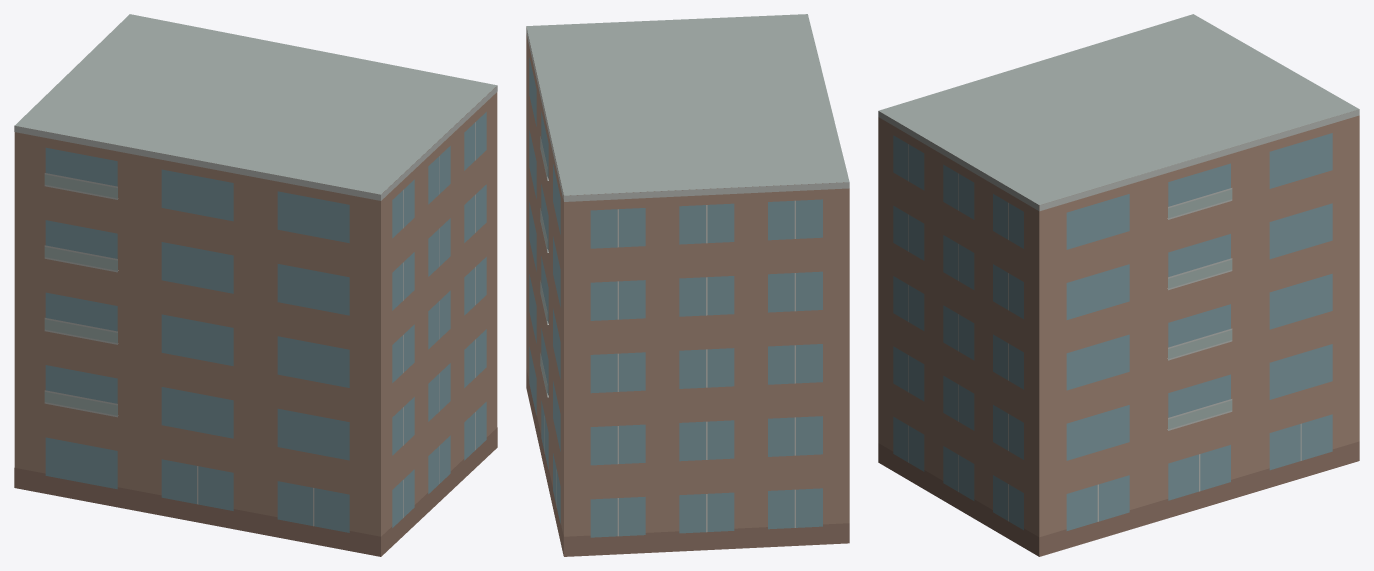
File: survey-upis-32777681.glb
3 renders of one model, left to right at view 1: azimuth 30°, elevation 25°; view 2: azimuth 150°, elevation 25°; view 3: azimuth 270°, elevation 25°, orthographic. The views are drawn at different scales.
Visible parts, largest first — view 1: survey-upis-32777681.tmp; view 2: survey-upis-32777681.tmp; view 3: survey-upis-32777681.tmp.
Boxes of the visible parts, box(x1,y1,x2,y2) form: survey-upis-32777681.tmp: box(14, 14, 497, 556); survey-upis-32777681.tmp: box(526, 14, 849, 556); survey-upis-32777681.tmp: box(878, 14, 1359, 556).
Bounding box in the file's own units: 16.28 × 13.95 × 17.31.
